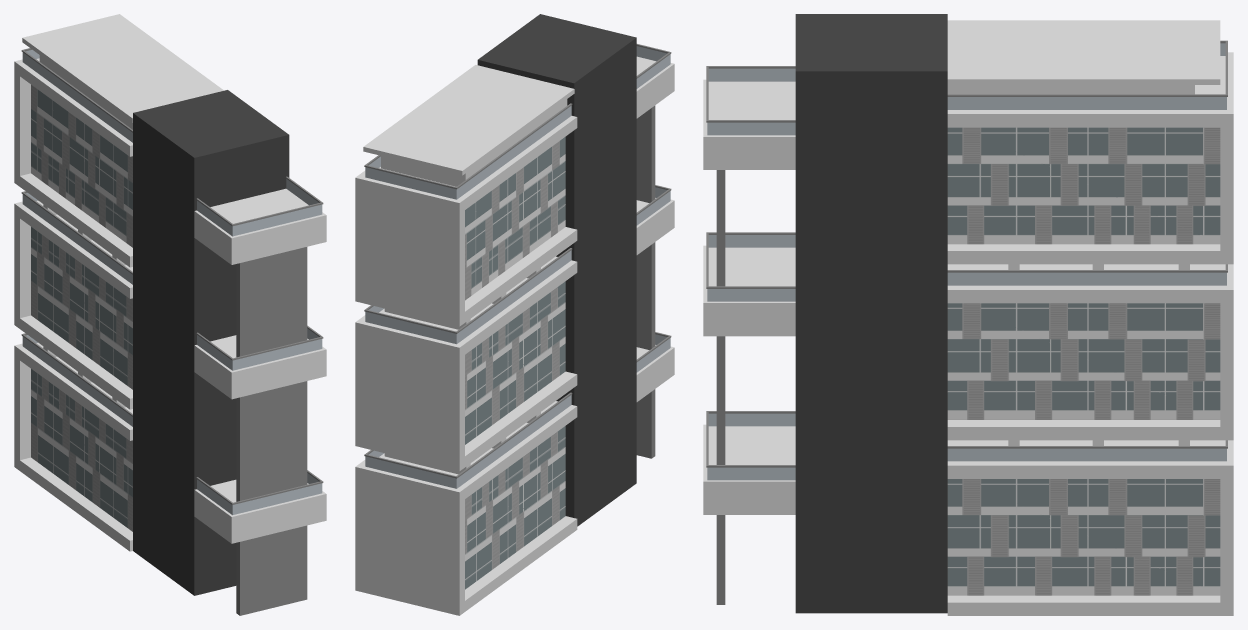
The model's file is fbx_building_7.fbx.
3 views of the same model, side by side, from view 1: azimuth 30°, elevation 25°; view 2: azimuth 150°, elevation 25°; view 3: azimuth 270°, elevation 25° (orthographic). The views are drawn at different scales.
Parts seen in each view (by area): view 1: fbx_building_7; view 2: fbx_building_7; view 3: fbx_building_7.
Part boxes in pixels (bbox=[...]): fbx_building_7: bbox=[14, 14, 326, 615]; fbx_building_7: bbox=[355, 14, 674, 615]; fbx_building_7: bbox=[703, 14, 1233, 615].
Size of the model in its own units: 9.31 by 38.02 by 33.74.
Materials: 2 (1 with a texture image).
